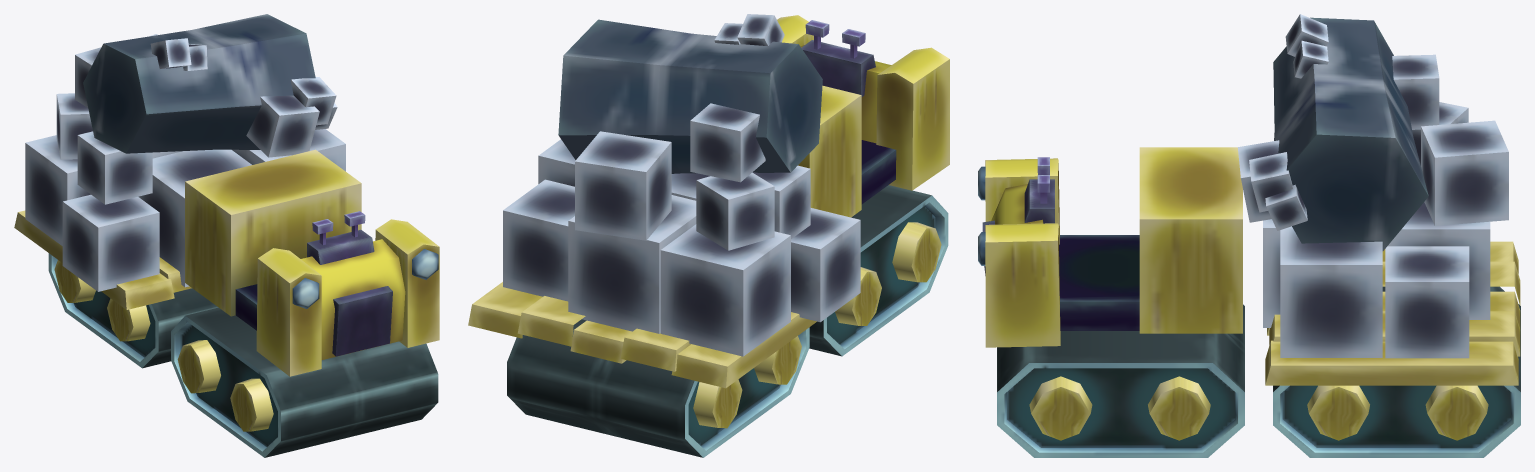
The model's file is HexCave_WorkingMachine03.fbx.
The picture shows the model from 3 angles, left to right: view 1: azimuth 30°, elevation 25°; view 2: azimuth 150°, elevation 25°; view 3: azimuth 270°, elevation 25°; orthographic projection. The views are drawn at different scales.
Parts seen in each view (by area): view 1: HexCave_WorkingMachine03; view 2: HexCave_WorkingMachine03; view 3: HexCave_WorkingMachine03.
Part boxes in pixels (bbox=[...]): HexCave_WorkingMachine03: bbox=[14, 14, 439, 457]; HexCave_WorkingMachine03: bbox=[468, 14, 949, 457]; HexCave_WorkingMachine03: bbox=[978, 14, 1520, 457].
Bounding box in the file's own units: 329 × 419 × 560.
